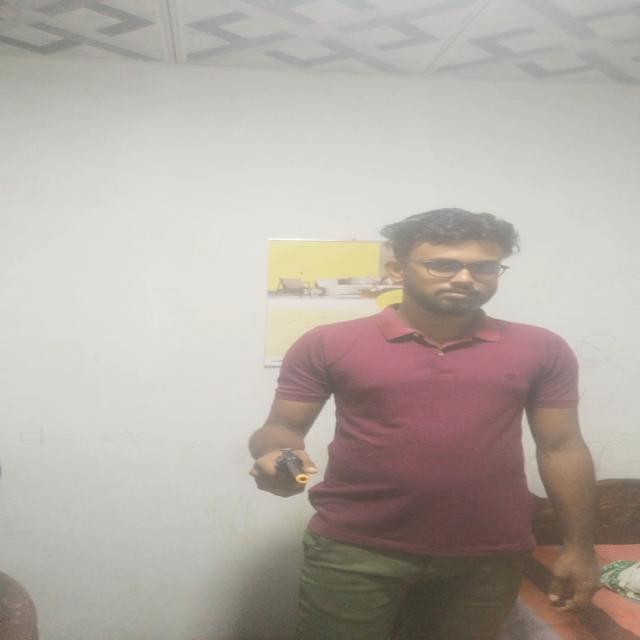Gun_Holder: (246, 436, 323, 496)
Person: (234, 204, 600, 640)
